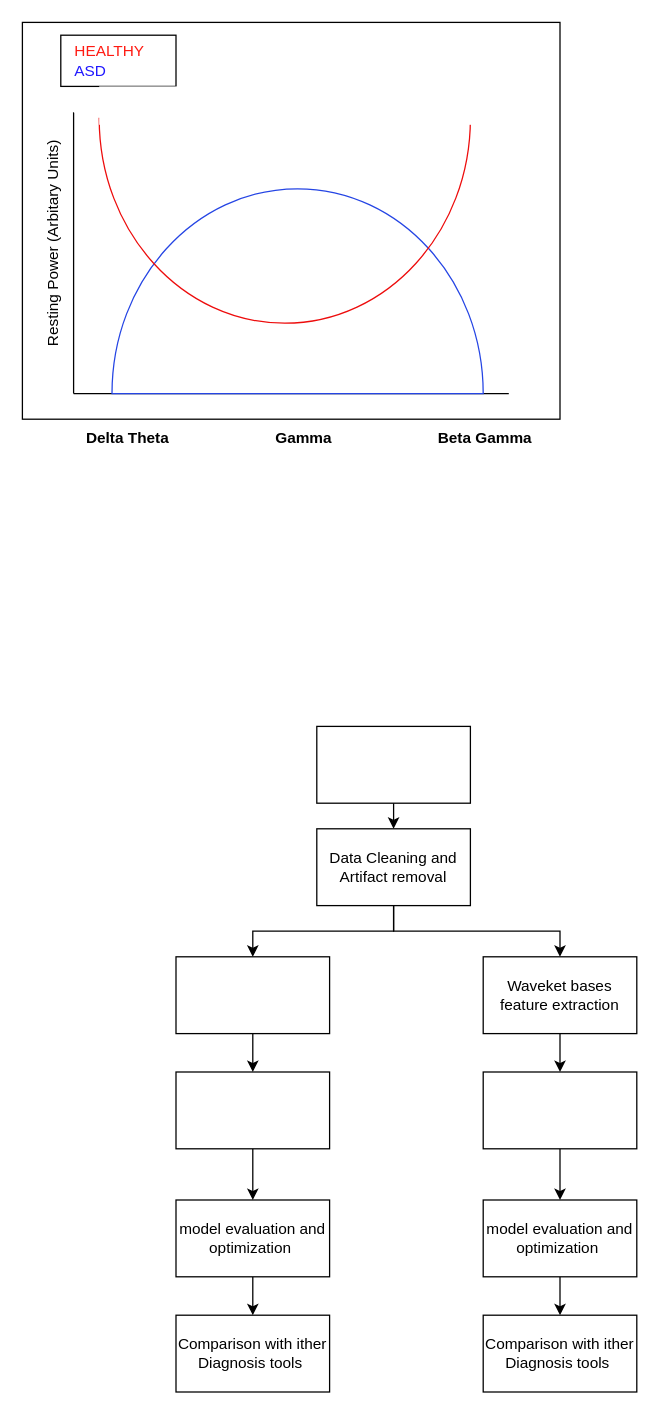
Image size: 659x1414. Some labels were removed from this diagram. The shapes that lost their labels are listed below. From the top down, each one's centre as x and y in pixels, then its label:
the point at 393,764: EEG Data Collection and Preprocessing
the point at 252,995: Alpha Wave extraction
the point at 252,1110: Single Label Classification
the point at 559,1110: Multi Label Classification
